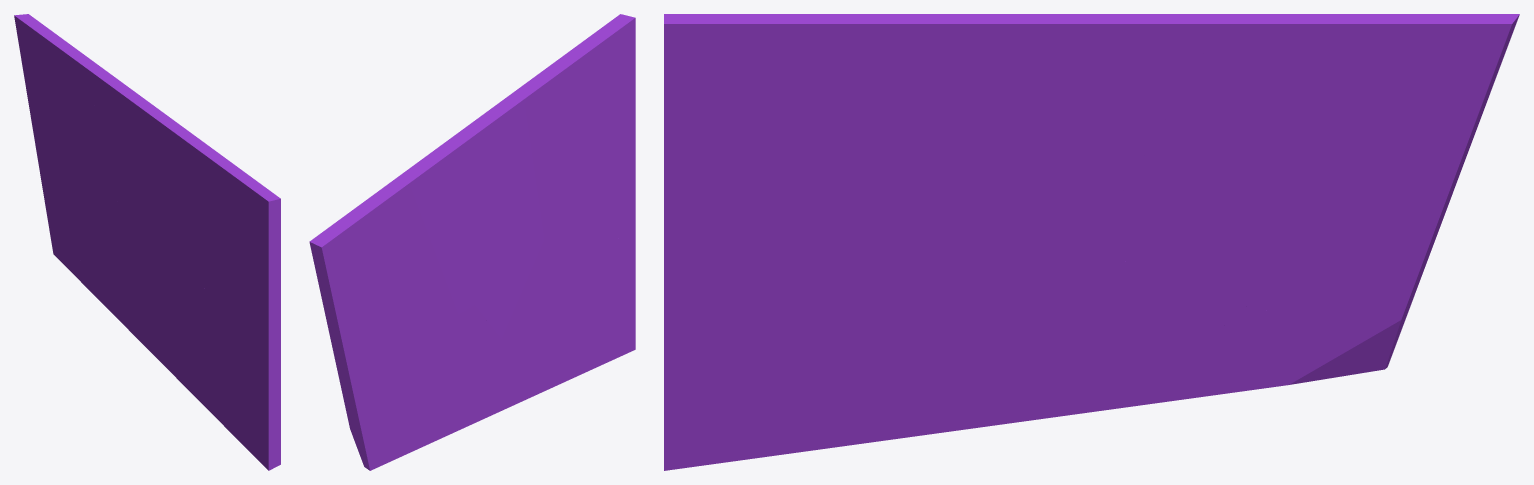
File: Window_9_6_chunks.fbx
3 renders of one model, left to right at view 1: azimuth 30°, elevation 25°; view 2: azimuth 150°, elevation 25°; view 3: azimuth 270°, elevation 25°, orthographic. The views are drawn at different scales.
Visible parts, largest first — view 1: Window_9_6_9, Window_9_6_1, Window_9_6_6, Window_9_6_0, Window_9_6_7, Window_9_6_2, Window_9_6_8, Window_9_6_5, Window_9_6_3, Window_9_6_4; view 2: Window_9_6_1, Window_9_6_9, Window_9_6_6, Window_9_6_0, Window_9_6_7, Window_9_6_2, Window_9_6_5, Window_9_6_4, Window_9_6_3, Window_9_6_8; view 3: Window_9_6_1, Window_9_6_9, Window_9_6_7, Window_9_6_8, Window_9_6_6, Window_9_6_0, Window_9_6_2, Window_9_6_4, Window_9_6_5, Window_9_6_3.
Boxes of the visible parts, x1,y1,x2,y2 form: Window_9_6_9: (178, 133, 280, 377); Window_9_6_1: (14, 14, 124, 231); Window_9_6_6: (160, 274, 279, 470); Window_9_6_0: (85, 67, 183, 243); Window_9_6_7: (138, 128, 194, 302); Window_9_6_2: (104, 248, 192, 394); Window_9_6_8: (238, 340, 280, 465); Window_9_6_5: (82, 230, 139, 268); Window_9_6_3: (64, 257, 112, 313); Window_9_6_4: (49, 229, 93, 264); Window_9_6_1: (309, 164, 458, 449); Window_9_6_9: (511, 14, 635, 241); Window_9_6_6: (501, 240, 635, 392); Window_9_6_0: (409, 97, 526, 313); Window_9_6_7: (474, 94, 544, 339); Window_9_6_2: (433, 308, 541, 437); Window_9_6_5: (406, 305, 476, 401); Window_9_6_4: (358, 390, 419, 470); Window_9_6_3: (383, 397, 443, 464); Window_9_6_8: (598, 235, 635, 273); Window_9_6_1: (1107, 14, 1519, 346); Window_9_6_9: (664, 14, 967, 299); Window_9_6_7: (909, 16, 1113, 343); Window_9_6_8: (664, 232, 936, 470); Window_9_6_6: (686, 271, 1028, 467); Window_9_6_0: (962, 14, 1279, 216); Window_9_6_2: (941, 257, 1228, 432); Window_9_6_4: (1221, 305, 1400, 386); Window_9_6_5: (1120, 259, 1248, 326); Window_9_6_3: (1214, 361, 1279, 395).
Size of the model in its own units: 27.2 by 571 by 978.
